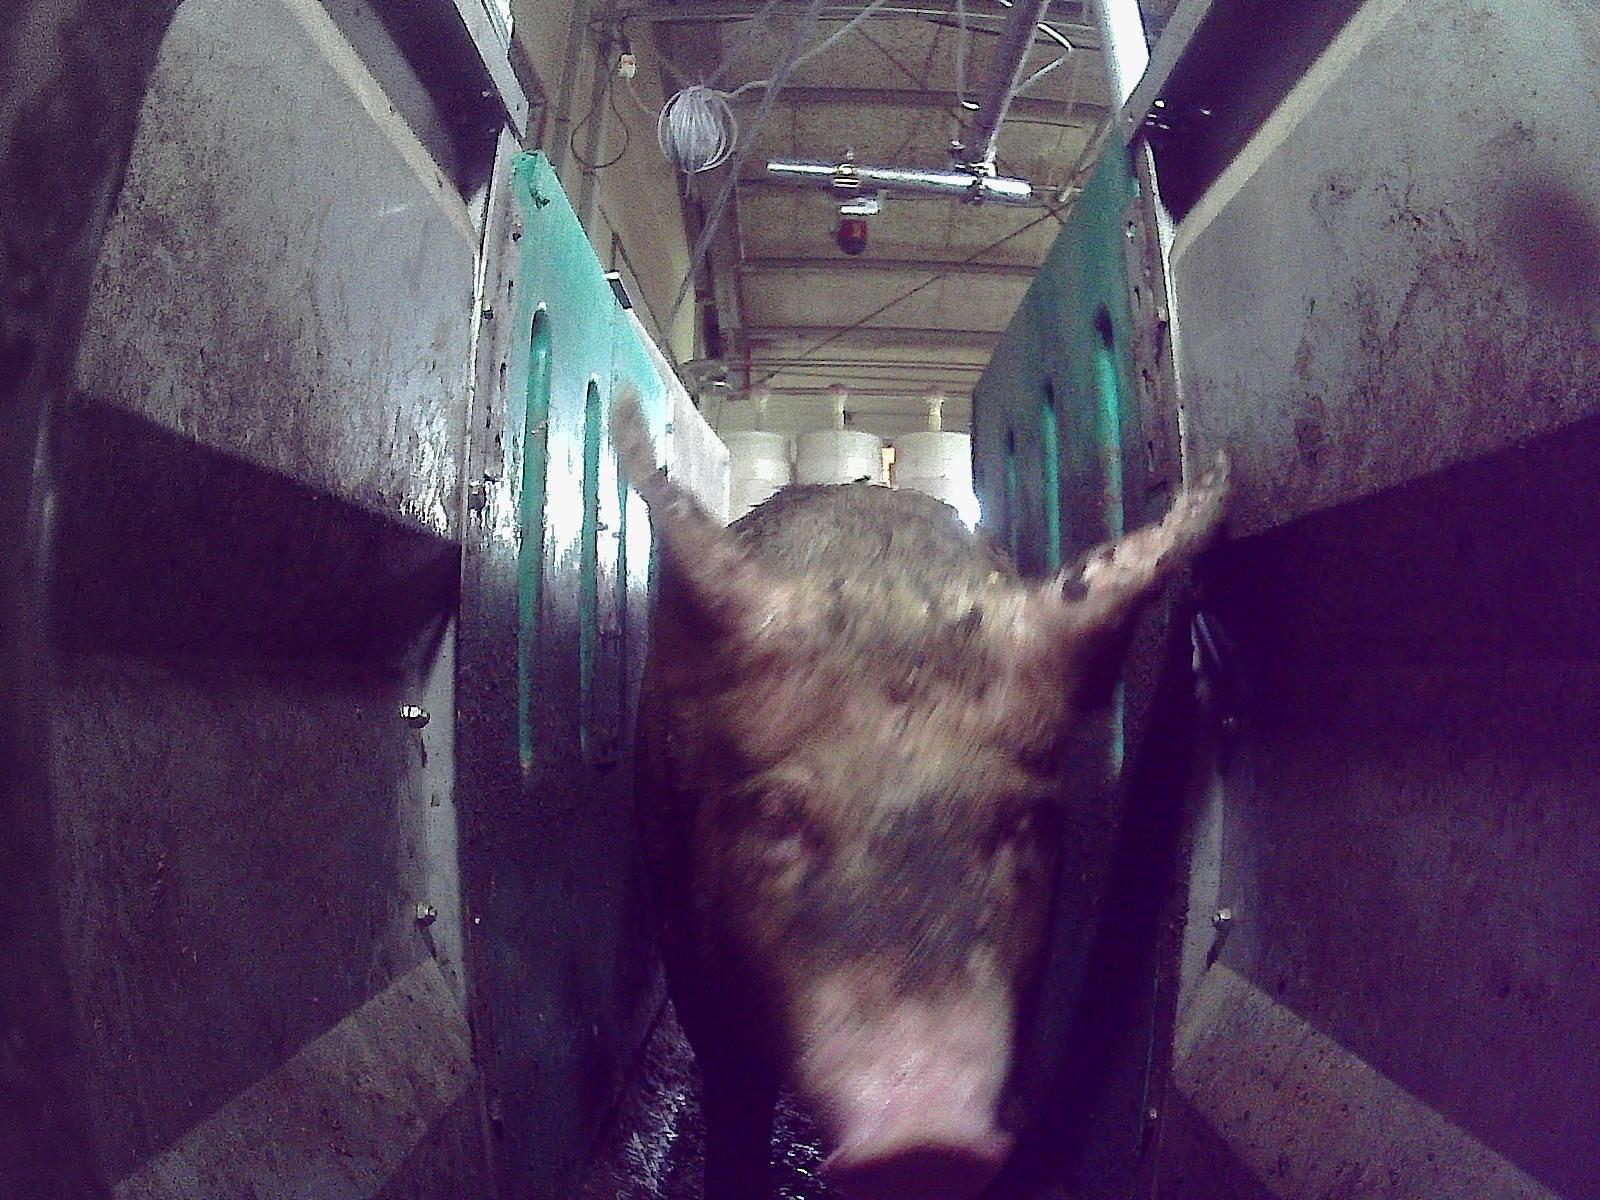Face: (695, 606, 1060, 1199)
